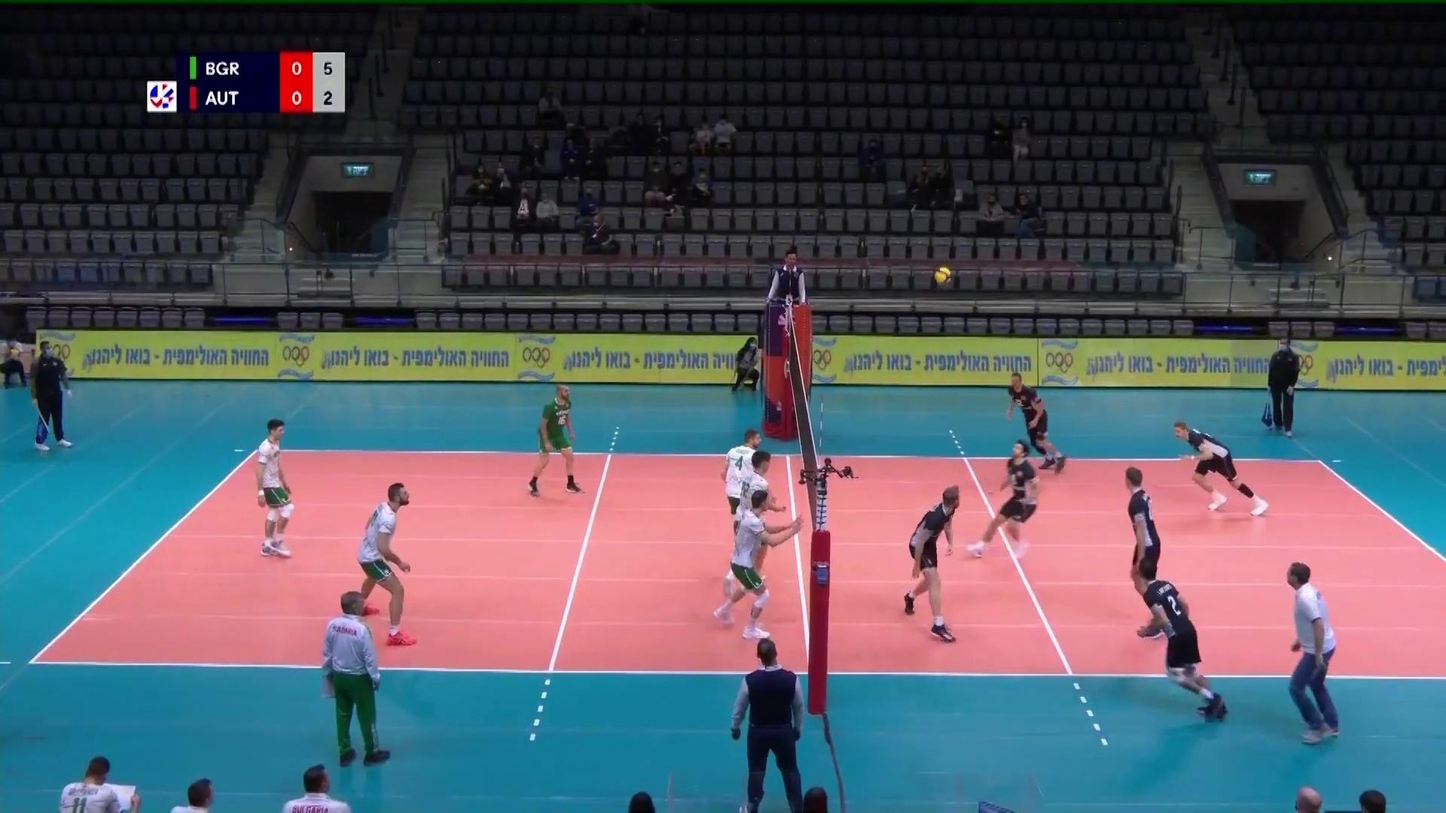ball: (934, 268, 953, 286)
